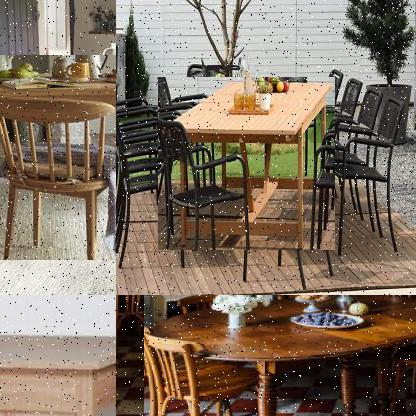table: (143, 295, 415, 415), (158, 77, 336, 251), (0, 55, 115, 262), (0, 328, 115, 415)
